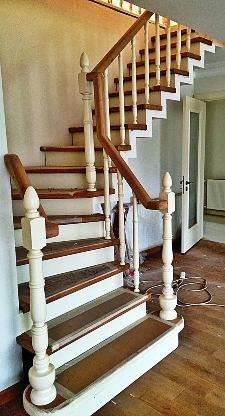stair: (0, 138, 185, 407), (80, 15, 213, 137)
